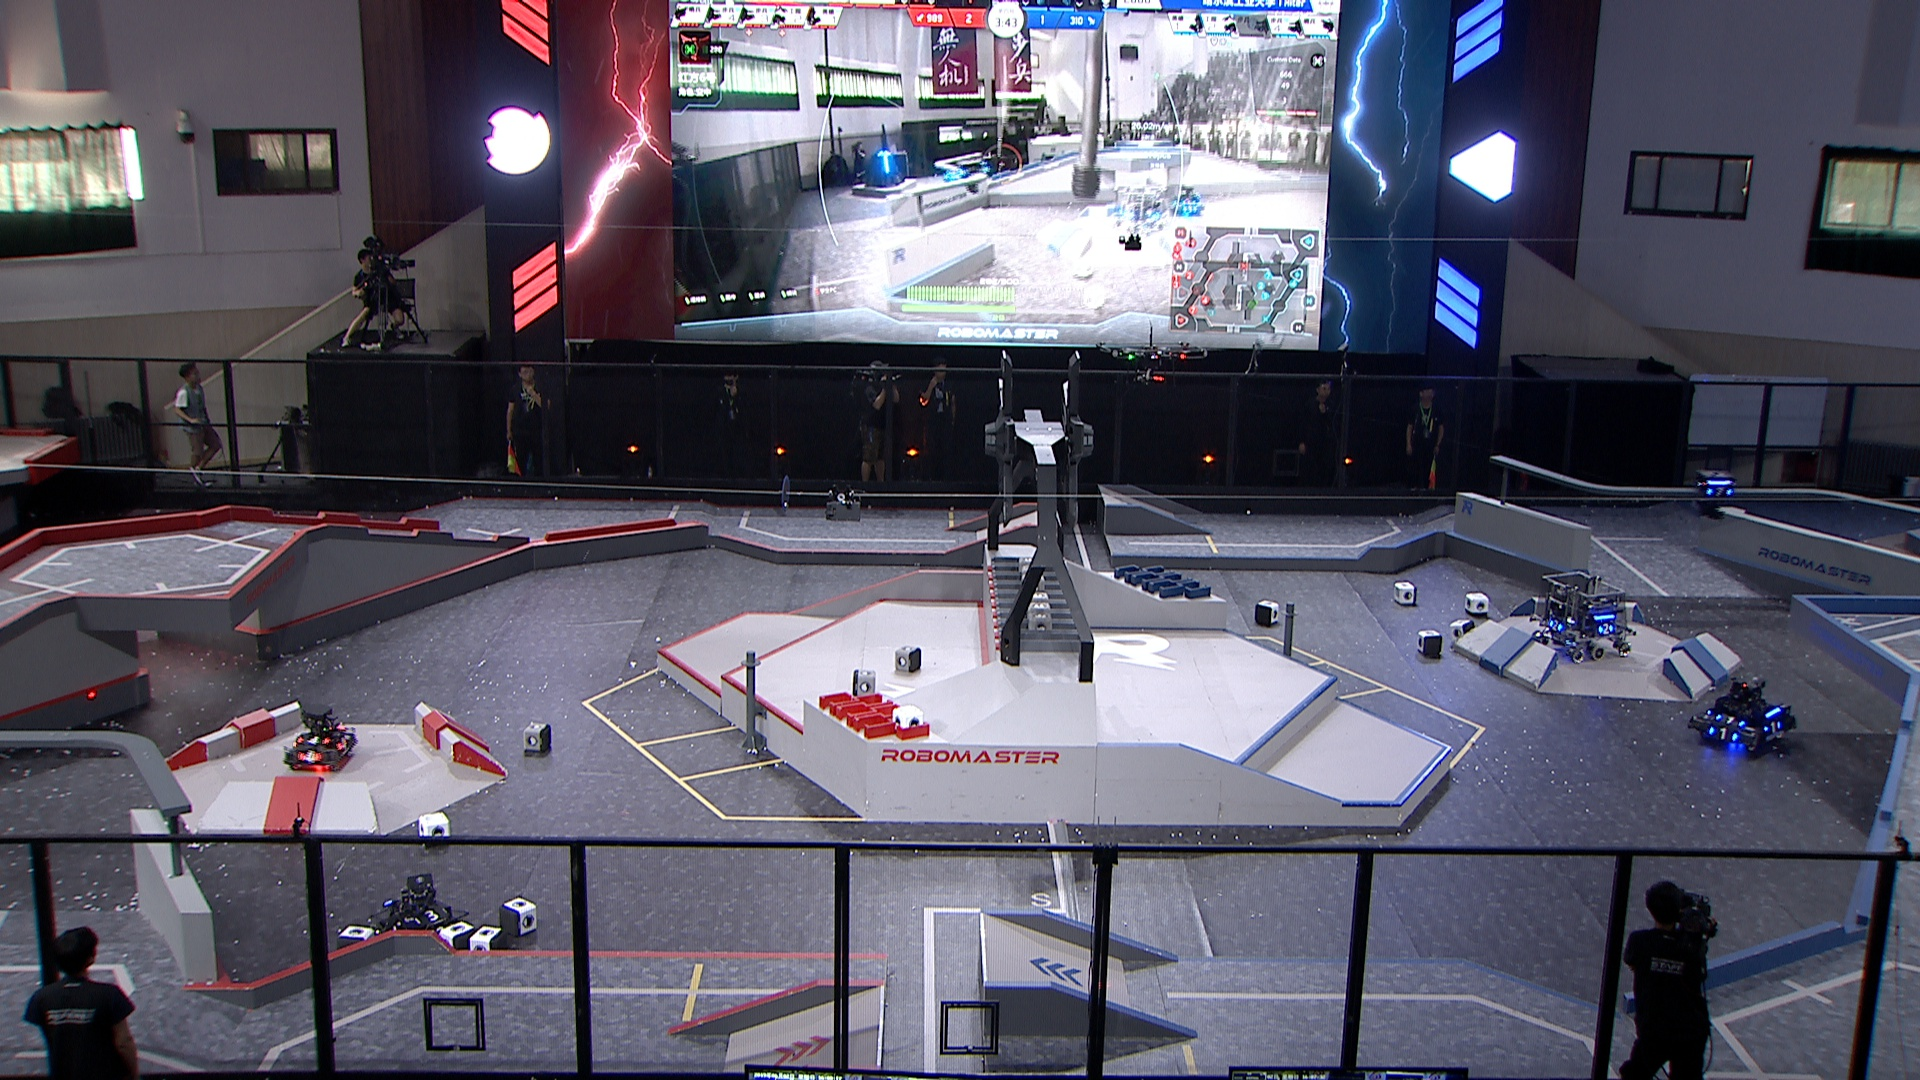armor: (414, 906, 448, 927), (1705, 723, 1735, 742), (1705, 483, 1735, 498), (1714, 712, 1746, 727), (295, 746, 320, 764), (299, 733, 328, 746), (1764, 719, 1782, 736), (1547, 618, 1567, 632), (338, 733, 349, 754), (1600, 622, 1617, 636)
car: (1528, 568, 1634, 662), (1685, 675, 1799, 756), (372, 866, 472, 956), (280, 707, 359, 773)
ignore: (1114, 186, 1166, 229), (861, 149, 901, 185), (1172, 189, 1205, 219)
watcher: (1687, 463, 1741, 524)
